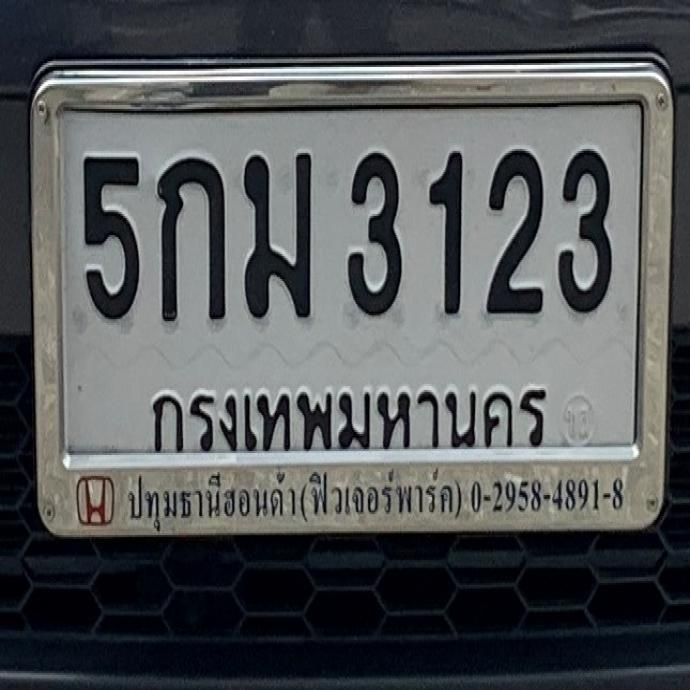1: (428, 146, 462, 316)
2: (485, 146, 542, 317)
3: (556, 146, 611, 317), (346, 149, 401, 318)
5: (81, 151, 140, 322)
A01: (156, 152, 225, 323)
A33: (242, 148, 312, 321)
BKK: (141, 366, 554, 461)
